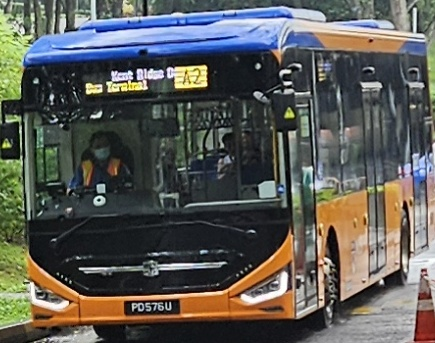bus: (171, 65, 207, 88)
